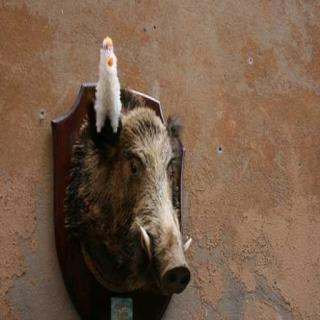Pig: (39, 38, 209, 300)
